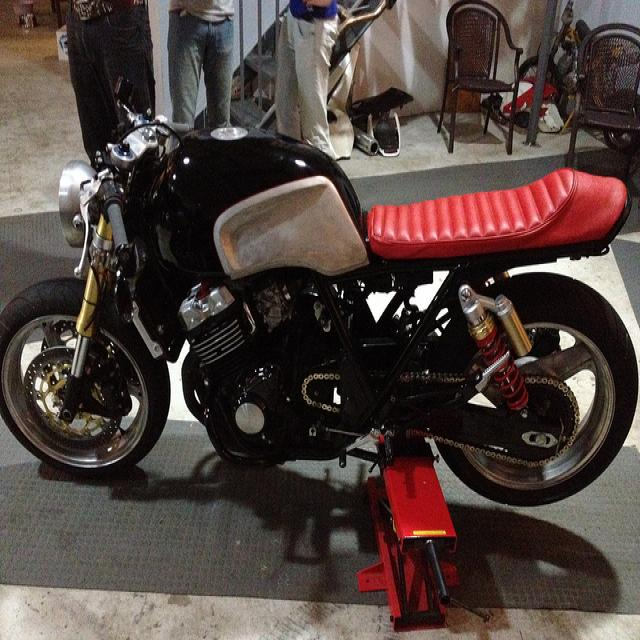motor: (1, 79, 640, 510)
